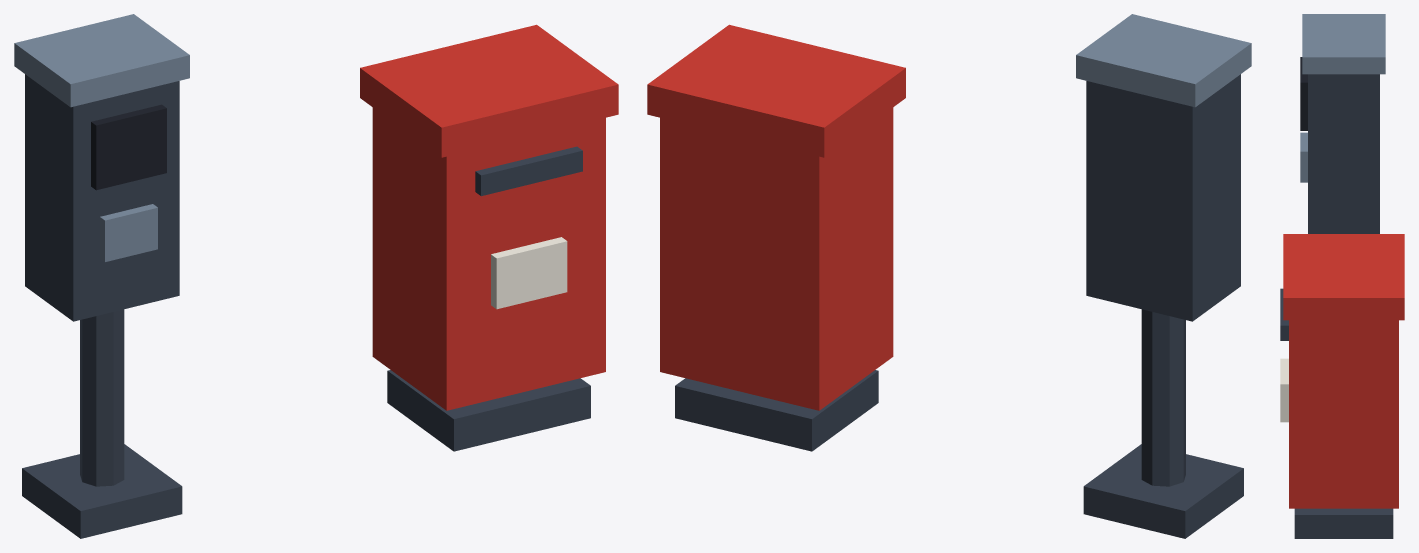
File: cittaColonnine.glb
3 views of the same model, side by side, from view 1: azimuth 30°, elevation 25°; view 2: azimuth 150°, elevation 25°; view 3: azimuth 270°, elevation 25° (orthographic). The views are drawn at different scales.
Parts seen in each view (by area): view 1: cittaColonnine_red, cittaColonnine_steelDark, cittaColonnine_steel, cittaColonnine_black, cittaColonnine_white; view 2: cittaColonnine_red, cittaColonnine_steelDark, cittaColonnine_steel; view 3: cittaColonnine_red, cittaColonnine_steelDark, cittaColonnine_steel, cittaColonnine_white, cittaColonnine_black.
Boxes of the visible parts, bbox=[...] form: cittaColonnine_red: bbox=[360, 24, 618, 410]; cittaColonnine_steelDark: bbox=[22, 74, 590, 538]; cittaColonnine_steel: bbox=[14, 14, 189, 261]; cittaColonnine_black: bbox=[91, 104, 166, 190]; cittaColonnine_white: bbox=[491, 237, 567, 309]; cittaColonnine_red: bbox=[647, 24, 905, 410]; cittaColonnine_steelDark: bbox=[675, 74, 1243, 538]; cittaColonnine_steel: bbox=[1076, 14, 1251, 107]; cittaColonnine_red: bbox=[1283, 234, 1404, 508]; cittaColonnine_steelDark: bbox=[1280, 74, 1393, 538]; cittaColonnine_steel: bbox=[1300, 14, 1385, 182]; cittaColonnine_white: bbox=[1280, 358, 1288, 422]; cittaColonnine_black: bbox=[1300, 57, 1307, 130].
Bounding box in the file's own units: 2.42 × 1.97 × 0.655.
